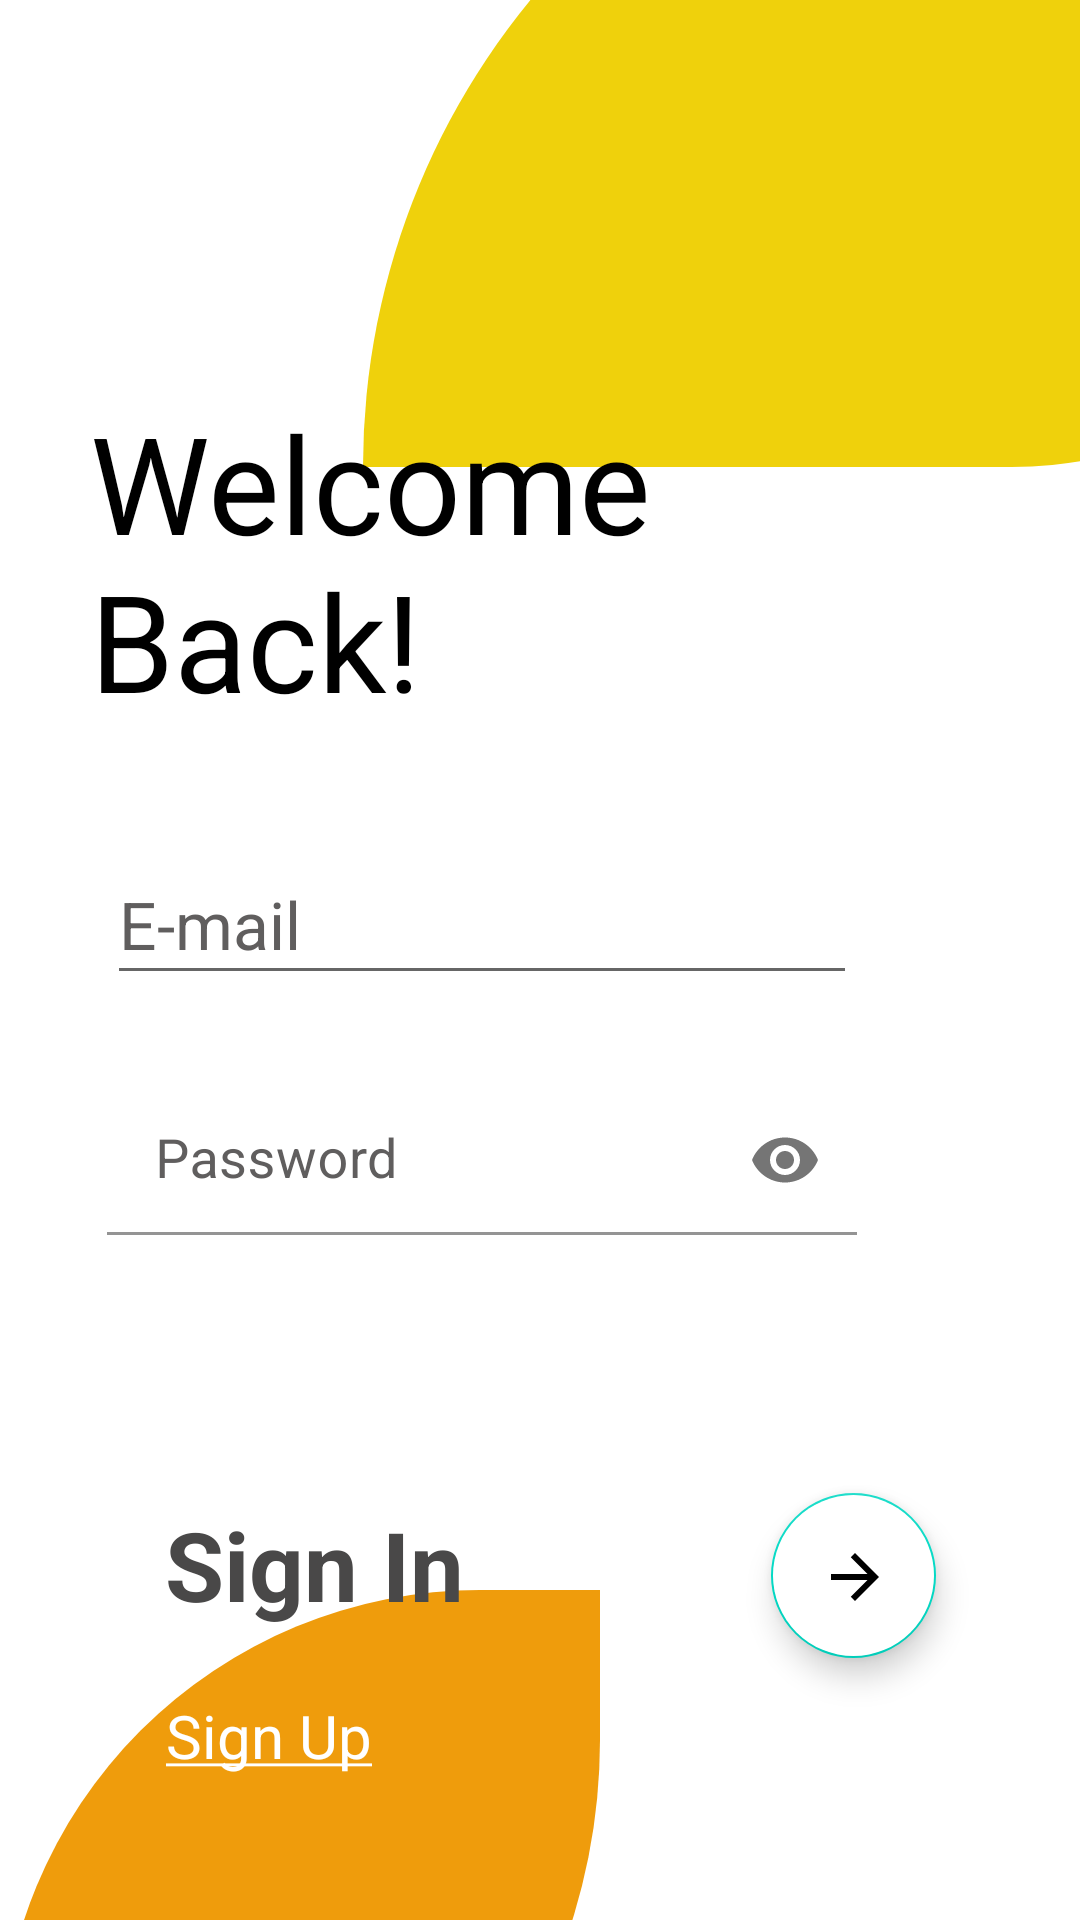

Screen size 1080*1920. Icon name, then its center in pixels as point (x, y):
arrow: point (853, 1575)
